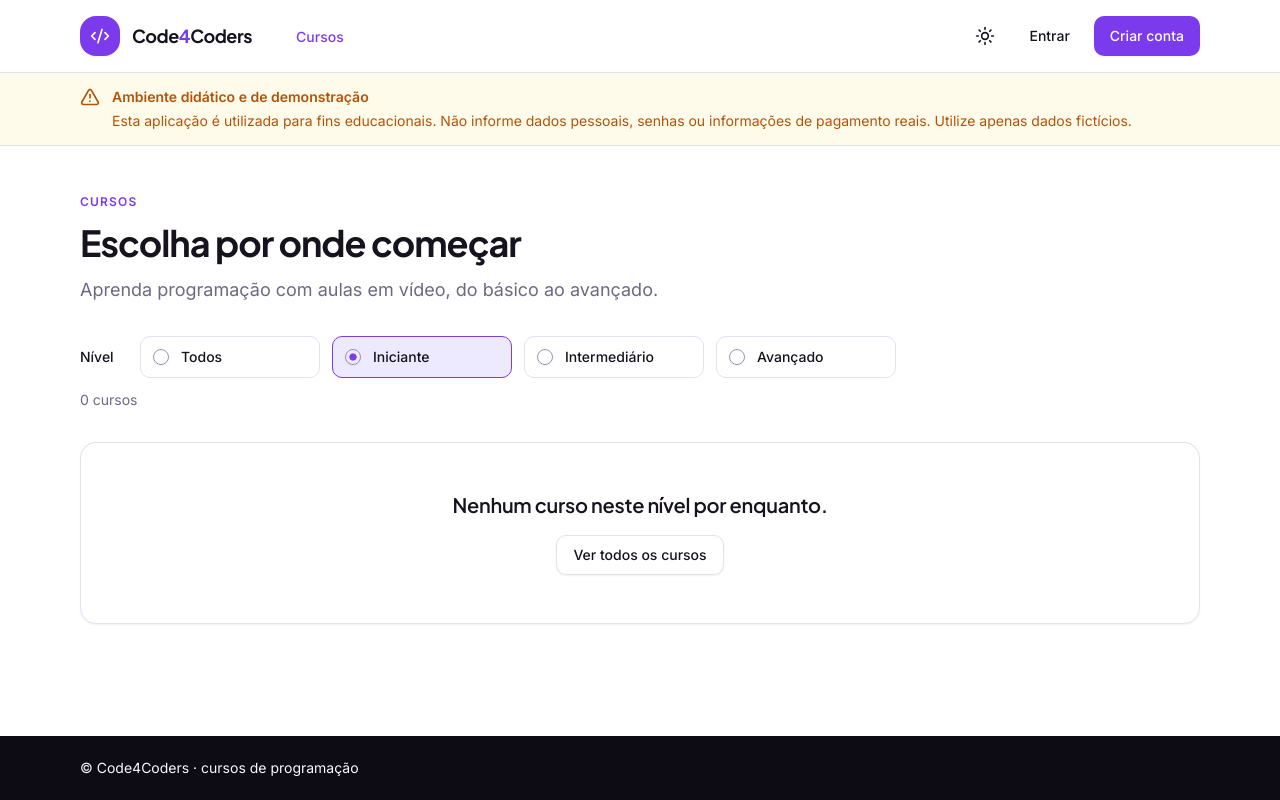
it: student showcase flow › shows the empty state for a level without courses and goes back to "Todos"
This screenshot has width=1280, height=800.
Check: the text "Nenhum curso neste nível por enquanto." is shown, box [452,491,828,519]
Click the button "Ver todos os cursos" at (640, 555), box [556,535,724,575]
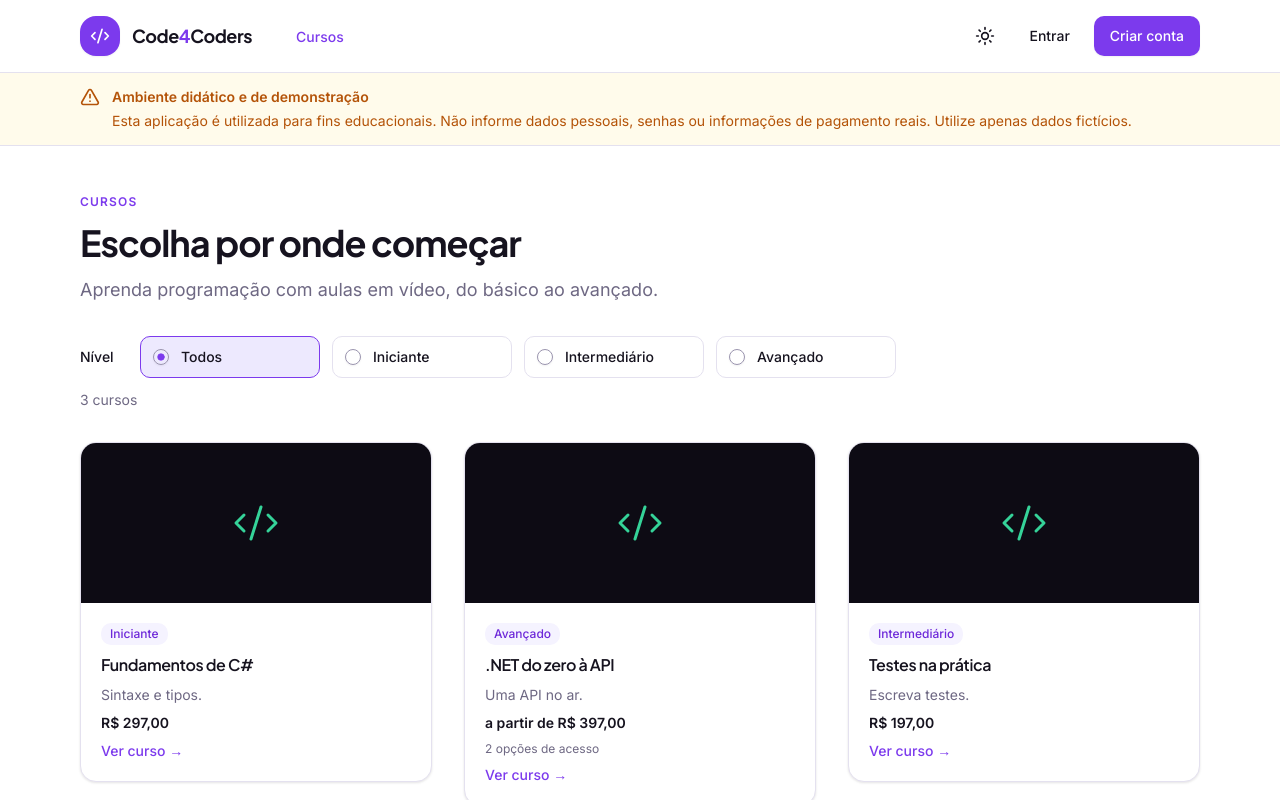
Check: the link "Fundamentos de C#" is shown, box [101,654,254,675]
Check: the radio button named "Todos" next to "Todos" is checked, box [153,349,169,365]
